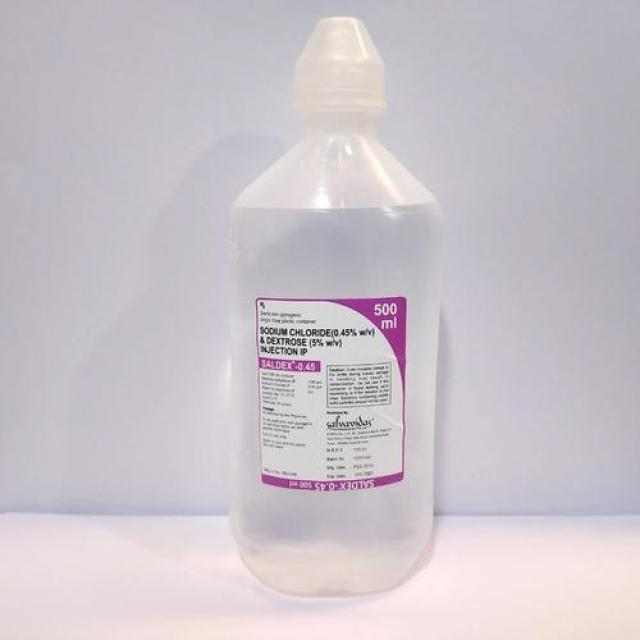B3: (221, 6, 456, 618)
